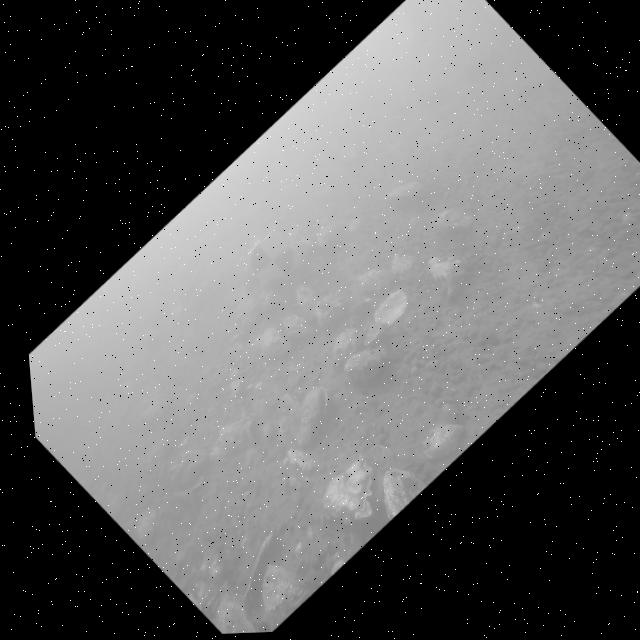Oyster-Closed: (323, 454, 372, 523), (384, 467, 426, 518), (210, 417, 253, 460), (294, 384, 322, 447), (171, 448, 209, 493), (428, 256, 467, 296), (423, 423, 465, 459), (344, 347, 387, 382), (332, 328, 364, 365), (252, 327, 290, 357), (387, 180, 427, 207), (315, 295, 346, 329), (358, 268, 394, 292), (391, 253, 420, 282), (283, 313, 314, 337), (296, 284, 319, 312), (435, 209, 472, 226)
Oyster-Indeterminate: (259, 559, 317, 620), (217, 582, 256, 634), (275, 390, 301, 445)
Oyster-Open: (242, 528, 279, 606), (374, 289, 407, 325)
